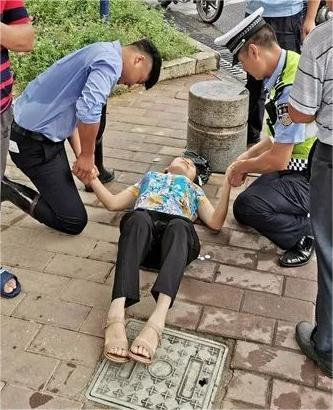bending: (1, 35, 159, 236), (212, 14, 324, 272)
down: (80, 147, 248, 367)
